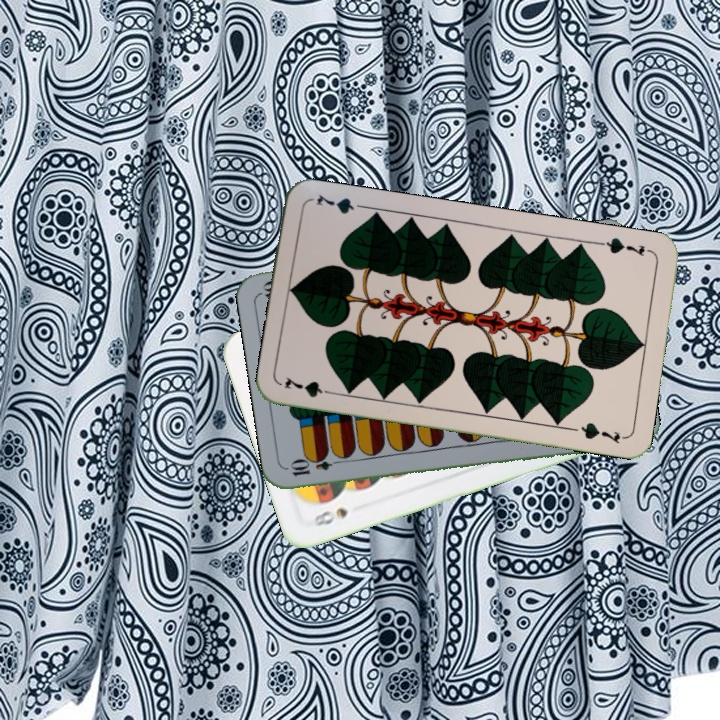E10: (286, 454, 346, 479)
G7: (280, 372, 339, 400), (595, 233, 654, 259)
S8: (307, 503, 351, 529)
